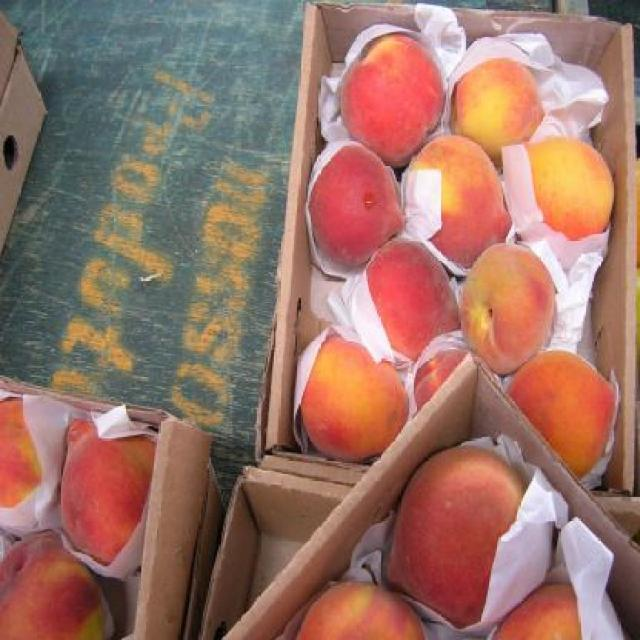Peach: (309, 34, 620, 466), (390, 446, 528, 626), (59, 418, 158, 570), (338, 33, 444, 173), (508, 346, 617, 482), (409, 133, 514, 272), (302, 337, 411, 466), (458, 240, 554, 374), (0, 528, 109, 640), (368, 236, 462, 361), (311, 146, 404, 268), (452, 60, 546, 168), (520, 136, 614, 238), (294, 583, 426, 639), (494, 583, 582, 640), (0, 396, 43, 510), (414, 346, 489, 408)
